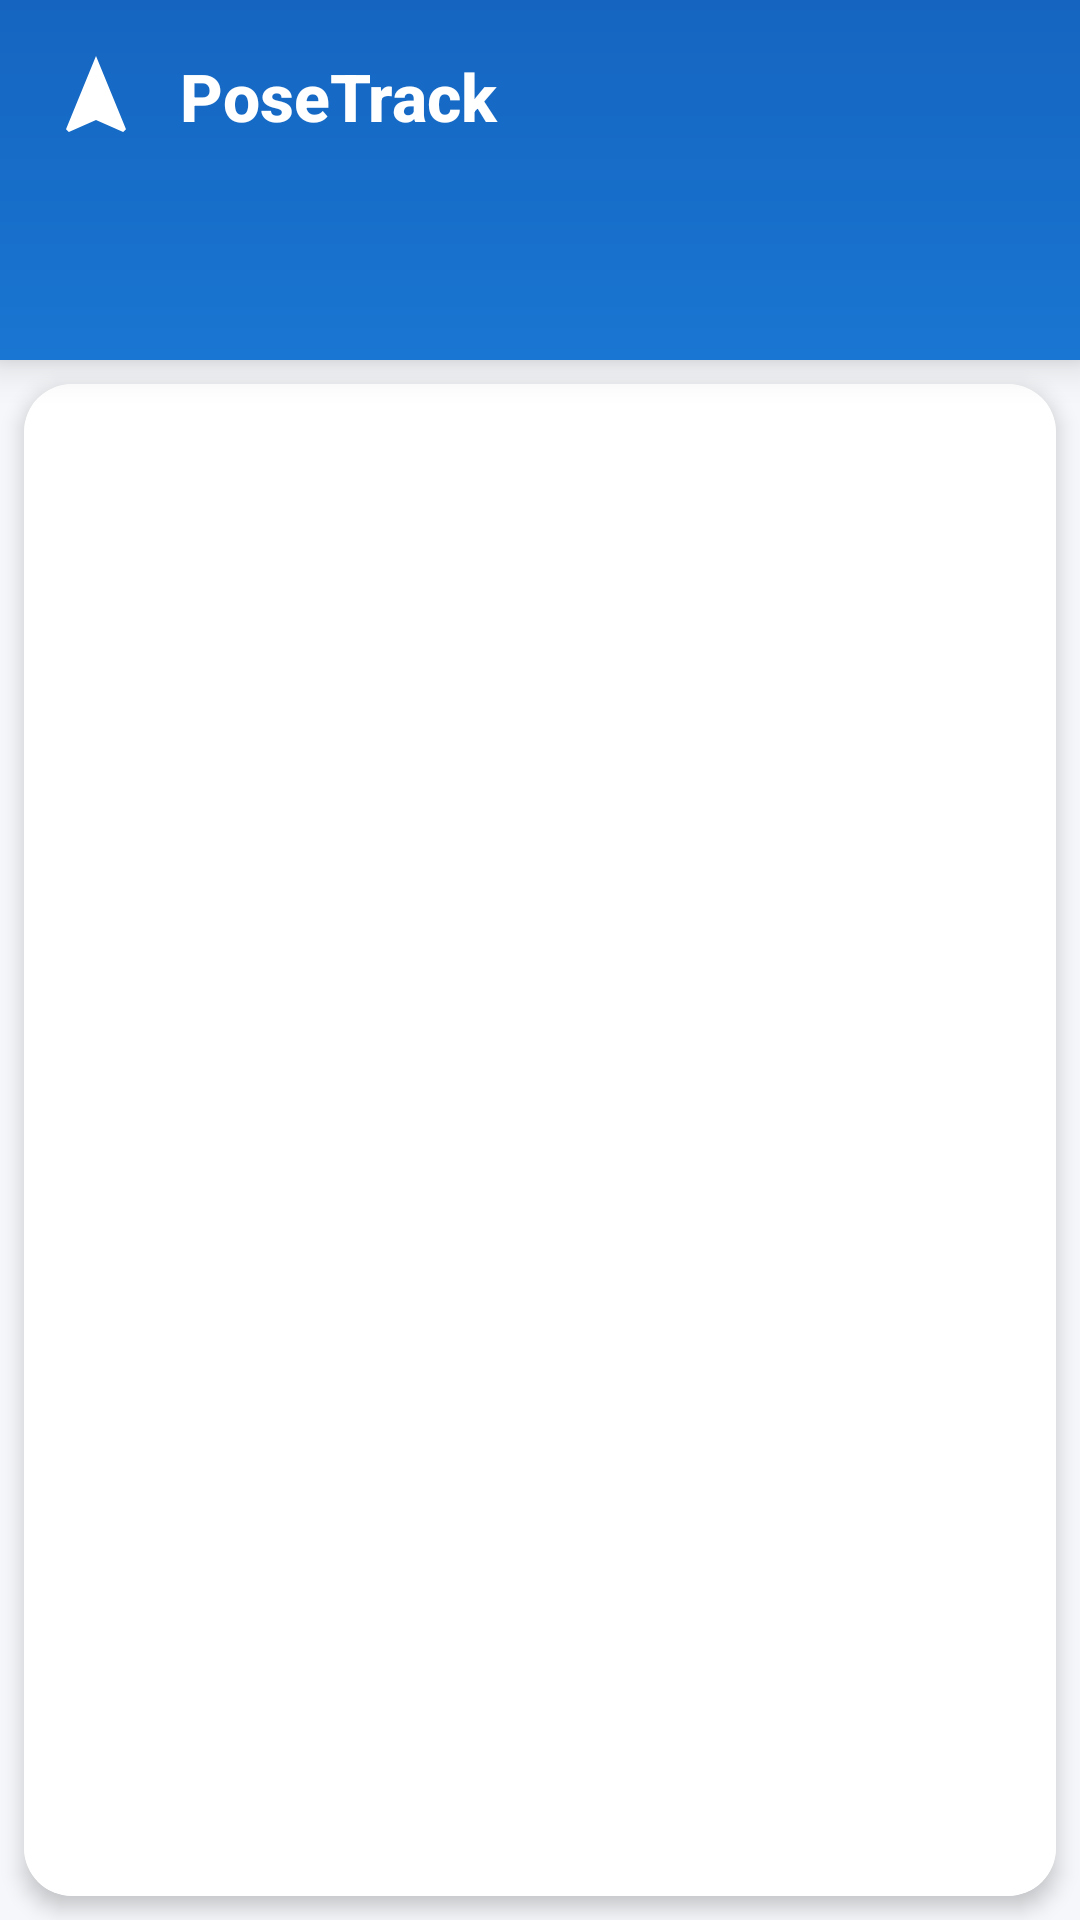

Where icons sit on this 1080w x 1920h app screen, as {"left": x1, "top": y1, "right": x2, "bottom": y2}:
navigation: {"left": 66, "top": 56, "right": 126, "bottom": 132}
